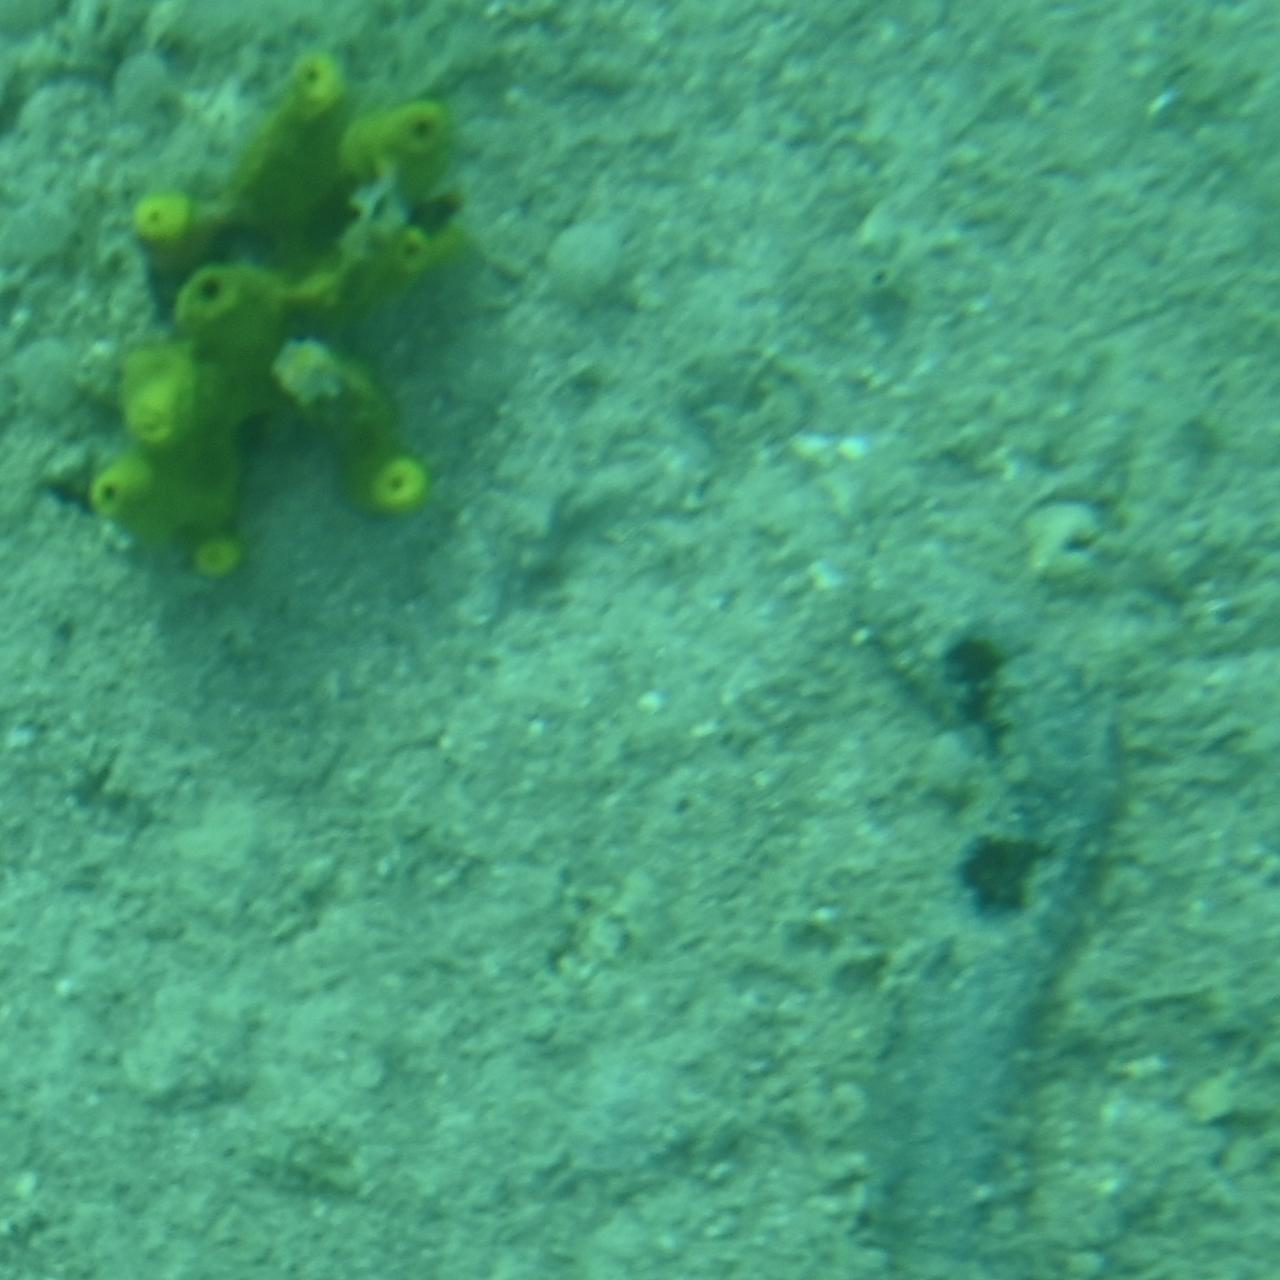Aplysina aerophoba: (72, 41, 515, 600)
Holothuria tubulosa: (829, 524, 1145, 1280)
